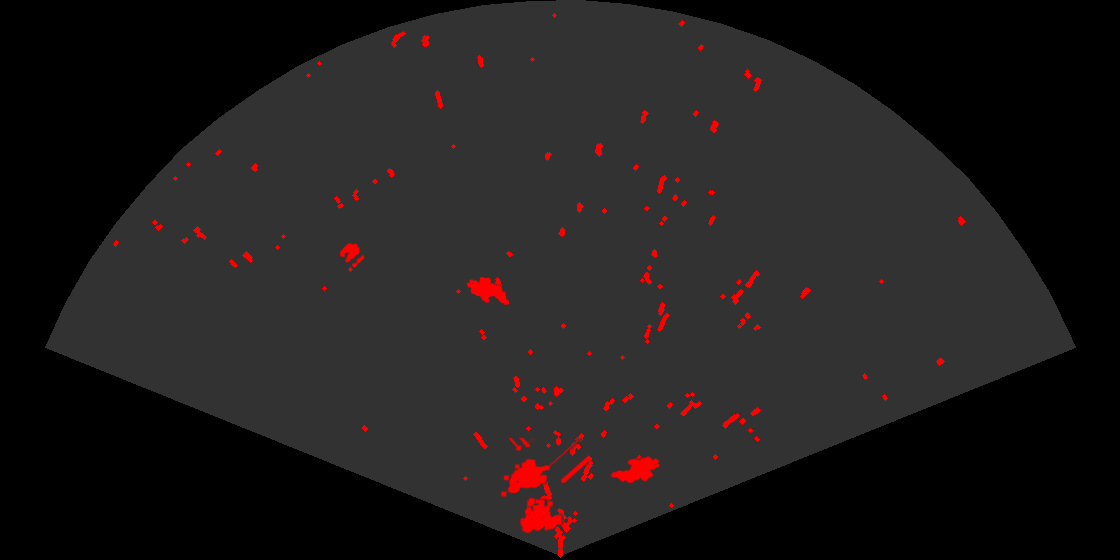AUV: (609, 454, 662, 485), (465, 275, 511, 307)
ball: (338, 241, 366, 270)
cage: (499, 438, 589, 535)
